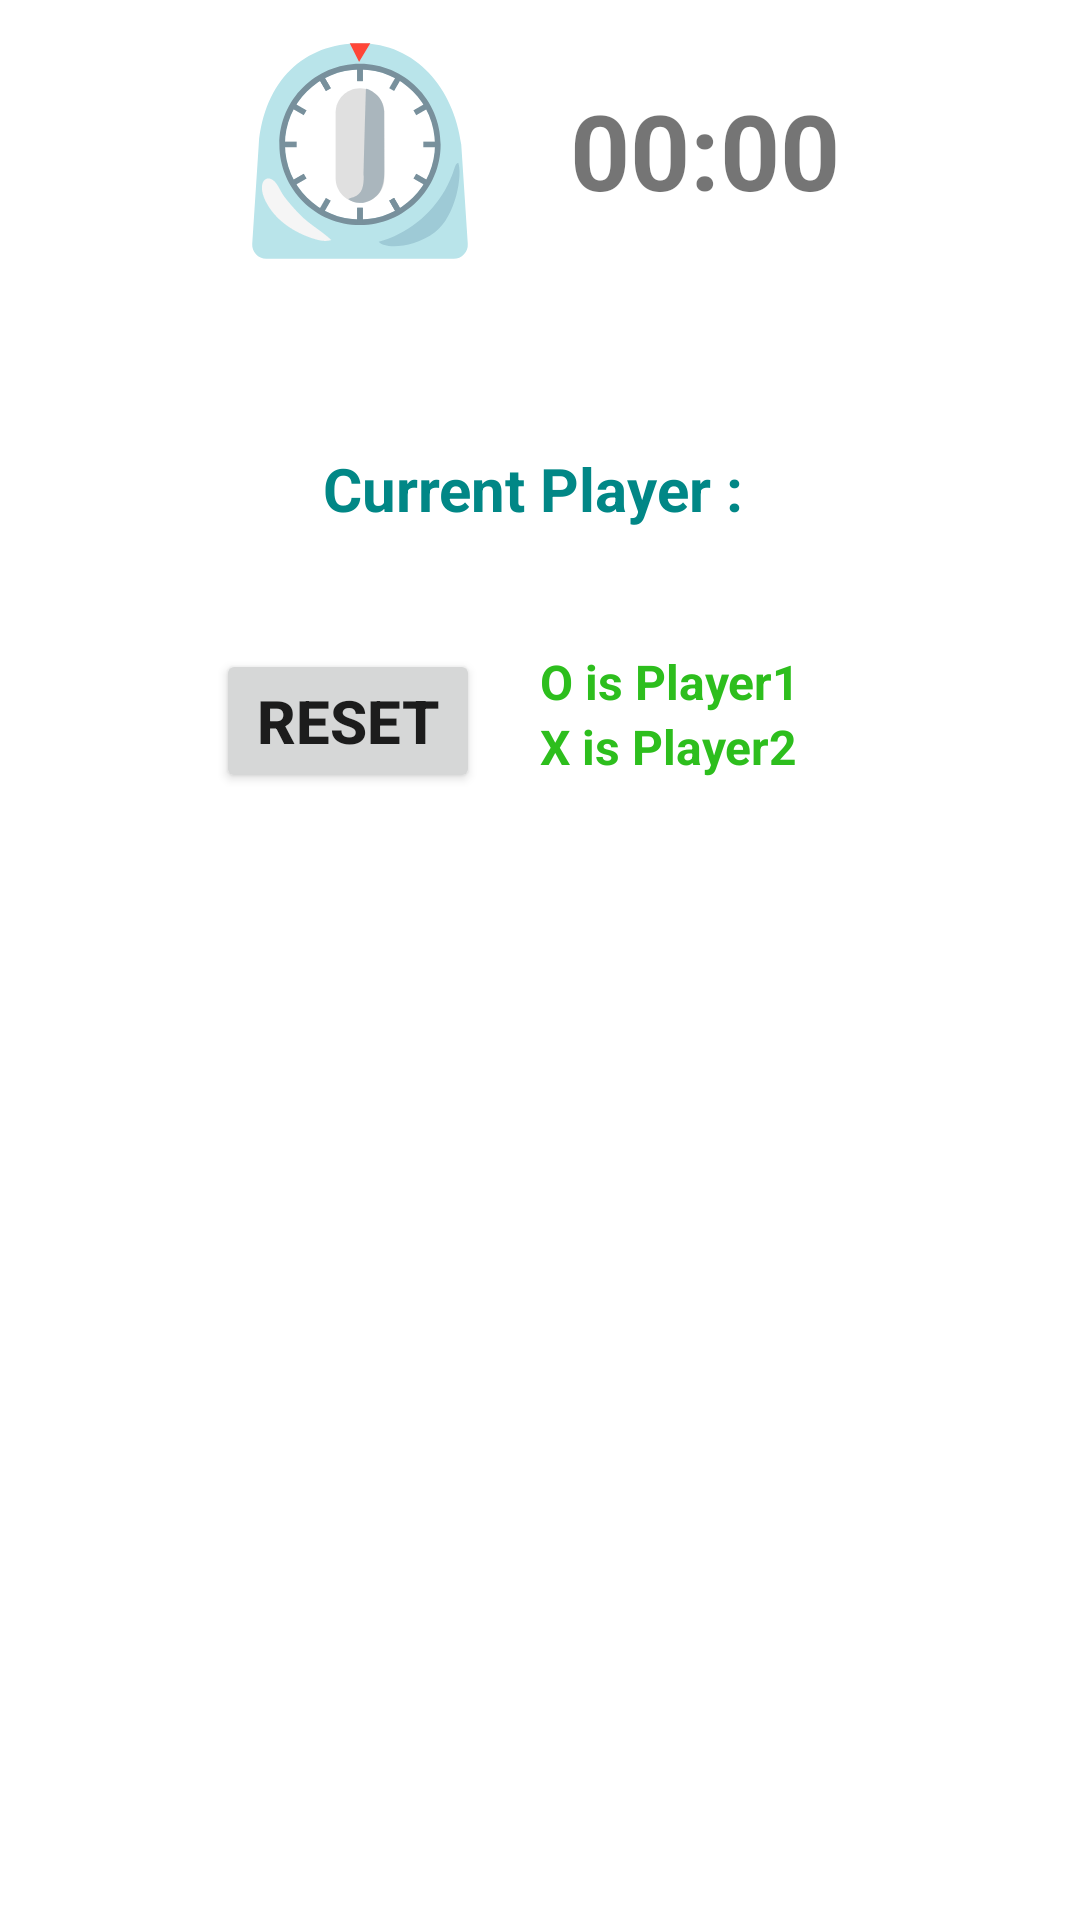

Screen size 1080 x 1920. Icon name, then its box in pixels as (x1, y1, x2, y2):
timer clock: (252, 43, 468, 259)
